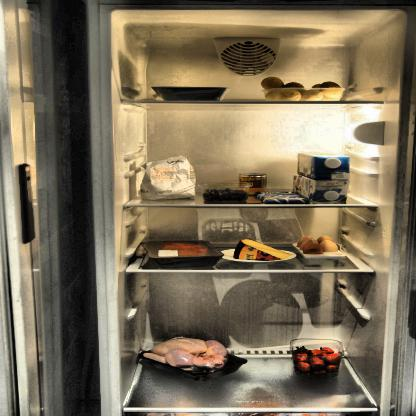beef: (145, 239, 216, 265)
blueberries: (202, 187, 250, 202)
cheese: (232, 239, 292, 262)
chicken: (140, 336, 232, 376)
chocolate: (255, 189, 307, 204)
corn: (238, 172, 265, 196)
eggs: (295, 235, 340, 257)
milk: (292, 175, 350, 203), (289, 154, 346, 180)
potato: (259, 76, 345, 102)
strawberries: (291, 344, 342, 376)
